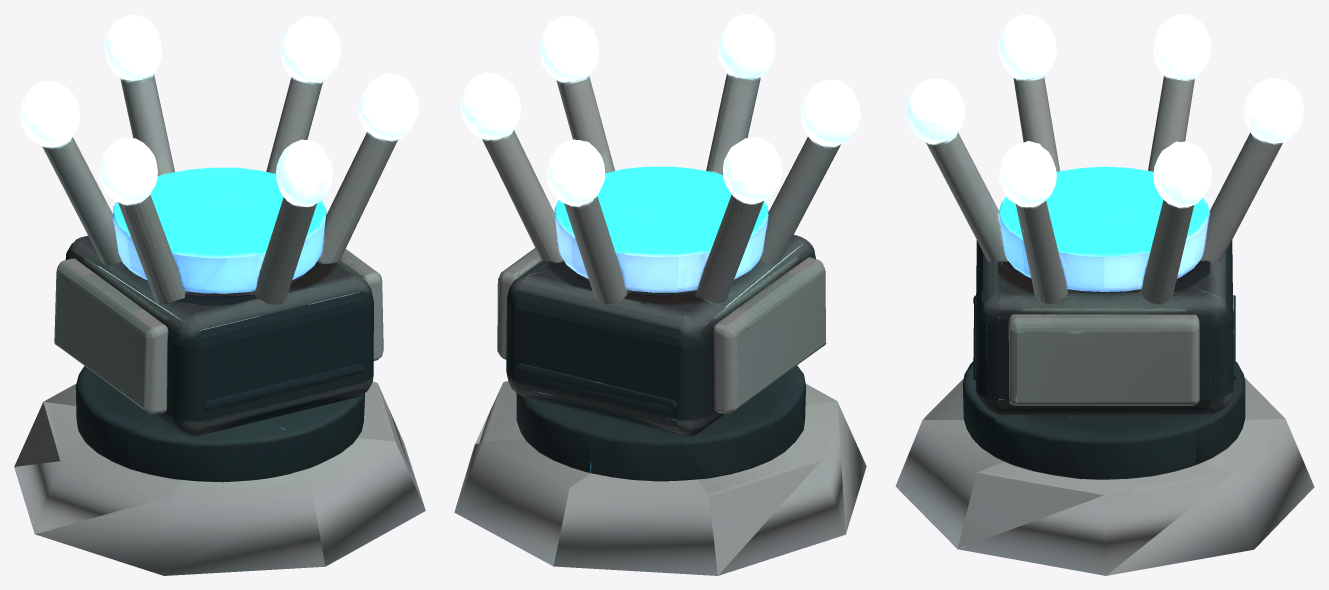
Rendered from aegis-array.glb.
3 views of the same model, side by side, from view 1: azimuth 30°, elevation 25°; view 2: azimuth 150°, elevation 25°; view 3: azimuth 270°, elevation 25° (orthographic).
Size of the model in its own units: 0.9453 by 1 by 0.9355.
Materials: 1 (1 with a texture image).
